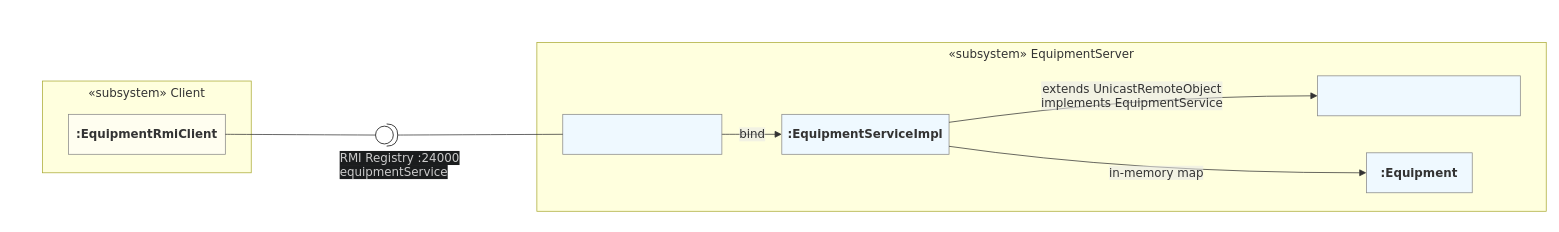
The diagram is 1559 pixels wide and 232 high, and some of its shapes have lost their labels. The shapes that lost their labels are listed below. From the top down, each one's centre as x and y in pixels, then its label:
point 1418,95: :EquipmentService interface
point 642,134: :EquipmentRmiServer
